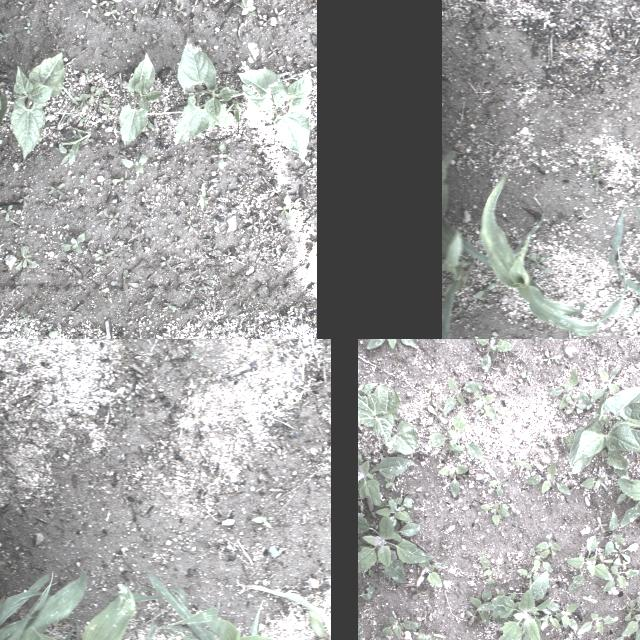crop: (460, 170, 628, 336), (116, 554, 330, 640), (173, 42, 251, 148), (30, 583, 158, 640), (6, 54, 74, 160), (561, 385, 640, 476), (237, 68, 313, 160), (0, 566, 86, 640), (441, 149, 472, 339), (358, 374, 423, 455), (245, 584, 331, 640), (117, 52, 167, 146), (0, 53, 8, 145)
weed: (358, 504, 430, 583), (479, 572, 560, 640), (358, 451, 410, 510), (428, 414, 486, 460), (565, 536, 609, 592), (522, 462, 572, 494), (615, 475, 640, 538), (546, 368, 580, 410), (472, 339, 514, 368), (581, 153, 609, 194), (374, 496, 412, 526), (576, 608, 616, 636), (442, 378, 473, 414), (437, 464, 469, 498), (378, 615, 422, 639), (472, 381, 498, 421), (592, 366, 620, 402), (621, 589, 640, 640), (605, 511, 625, 557), (606, 566, 640, 593), (470, 592, 492, 626), (120, 151, 148, 177), (66, 127, 92, 155), (536, 532, 562, 560), (478, 552, 498, 588), (480, 503, 510, 527), (610, 542, 640, 566), (419, 560, 445, 586), (554, 602, 578, 630), (426, 400, 448, 430), (14, 244, 38, 270), (62, 234, 86, 260), (530, 546, 554, 572), (82, 81, 104, 109), (488, 467, 508, 497), (366, 339, 416, 350), (568, 392, 590, 414), (33, 321, 59, 339), (528, 254, 550, 274), (57, 142, 75, 166), (579, 477, 609, 491), (110, 172, 136, 188), (274, 202, 294, 222), (540, 614, 560, 634), (122, 269, 138, 293), (473, 284, 497, 300), (235, 0, 257, 17), (218, 140, 230, 170), (396, 522, 420, 536), (62, 106, 80, 124), (46, 182, 64, 200), (18, 308, 30, 334), (198, 182, 208, 212), (250, 516, 274, 528), (102, 97, 116, 117), (74, 93, 88, 113), (358, 585, 372, 605), (78, 66, 95, 82), (96, 243, 112, 260), (0, 203, 14, 222), (510, 458, 532, 470), (196, 276, 214, 290), (543, 352, 563, 364), (102, 3, 116, 20), (89, 0, 107, 13), (267, 339, 284, 352), (18, 5, 30, 23), (413, 632, 440, 640), (624, 602, 636, 620), (358, 626, 373, 640), (407, 588, 427, 598), (105, 212, 119, 226), (464, 609, 478, 623), (129, 7, 141, 23), (0, 28, 10, 47), (182, 220, 200, 230), (152, 33, 164, 47), (160, 256, 172, 270), (22, 22, 34, 36), (16, 192, 28, 206), (290, 201, 302, 215), (518, 568, 532, 580), (162, 302, 178, 312), (206, 245, 222, 255), (270, 9, 286, 19), (268, 186, 280, 198), (597, 516, 605, 534), (50, 44, 64, 54), (173, 7, 187, 16), (10, 284, 22, 294), (78, 117, 90, 127), (139, 286, 151, 296), (144, 296, 154, 308), (224, 252, 236, 262), (249, 220, 259, 232), (264, 16, 276, 26), (282, 246, 292, 258), (28, 342, 38, 354), (520, 372, 534, 380), (386, 476, 394, 489), (81, 8, 91, 18), (97, 262, 107, 272), (278, 228, 288, 238), (62, 264, 72, 274), (189, 284, 201, 292), (428, 381, 434, 397), (98, 208, 109, 216), (582, 596, 596, 602), (32, 46, 42, 54), (267, 222, 277, 230), (310, 165, 316, 178), (78, 174, 86, 183), (142, 186, 148, 198), (57, 194, 63, 206), (240, 302, 248, 310), (270, 46, 278, 54), (124, 520, 132, 528), (539, 432, 547, 440), (22, 182, 28, 192), (482, 473, 488, 483), (7, 16, 16, 22), (197, 327, 203, 335), (282, 314, 290, 320), (246, 277, 250, 287), (118, 10, 122, 20), (110, 36, 114, 46), (196, 388, 200, 398), (142, 6, 148, 12), (70, 319, 76, 325), (182, 362, 188, 368), (514, 508, 520, 514), (358, 540, 362, 548), (66, 295, 72, 299), (192, 352, 196, 358), (368, 572, 374, 576), (0, 166, 2, 172)
